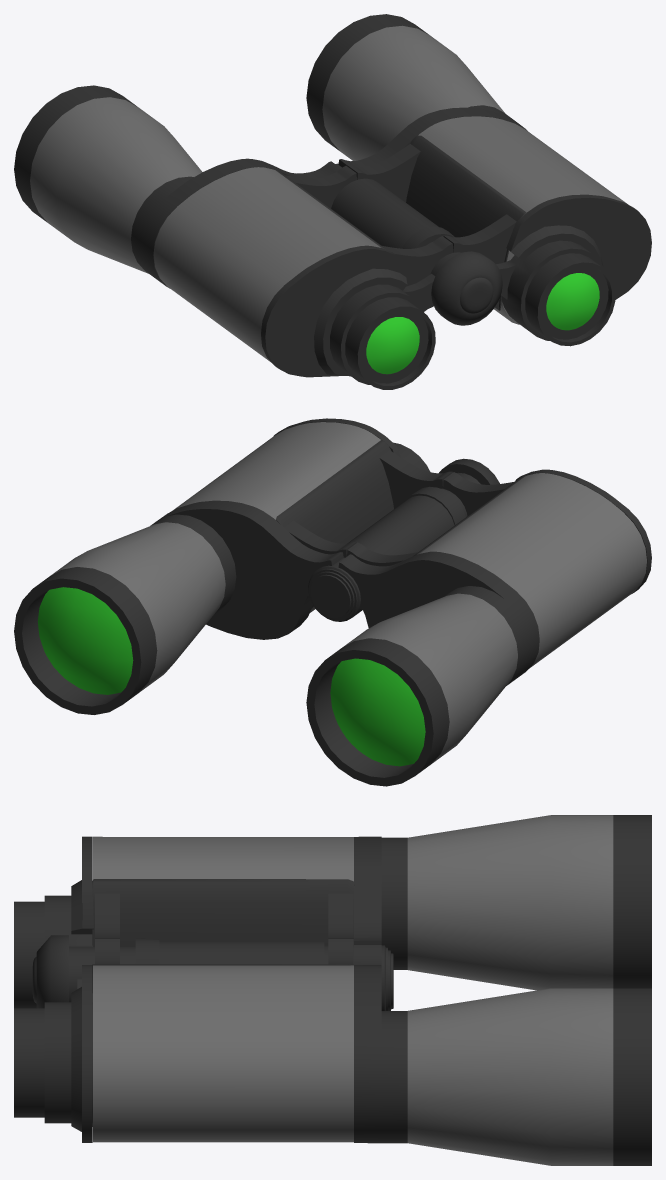
The model's file is Binoculars.fbx.
3 views of the same model, one above another, from view 1: azimuth 30°, elevation 25°; view 2: azimuth 150°, elevation 25°; view 3: azimuth 270°, elevation 25° (orthographic). The views are drawn at different scales.
Parts seen in each view (by area): view 1: Binoculars_Lo.001; view 2: Binoculars_Lo.001; view 3: Binoculars_Lo.001.
Part boxes in pixels (x1,y1,x2,y2): Binoculars_Lo.001: [14, 14, 651, 389]; Binoculars_Lo.001: [14, 418, 651, 786]; Binoculars_Lo.001: [14, 815, 651, 1165].
Bounding box in the file's own units: 0.1324 × 0.1436 × 0.0401.
